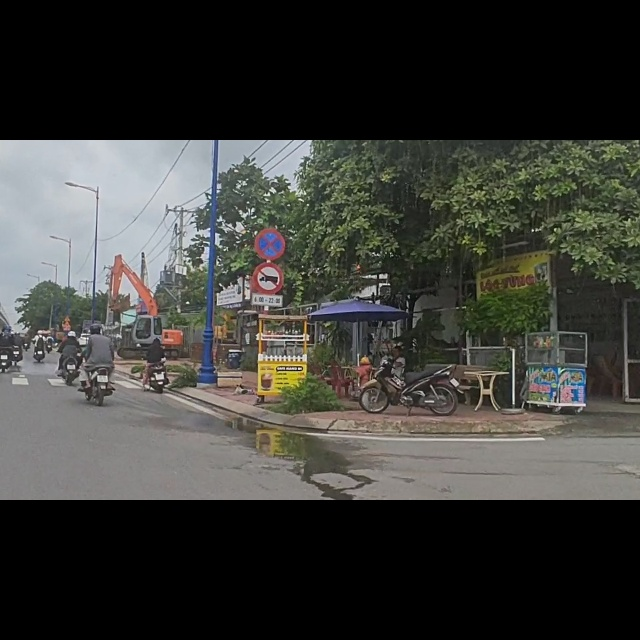bien_nguy_hiem: (253, 156, 285, 212), (253, 218, 283, 274)
